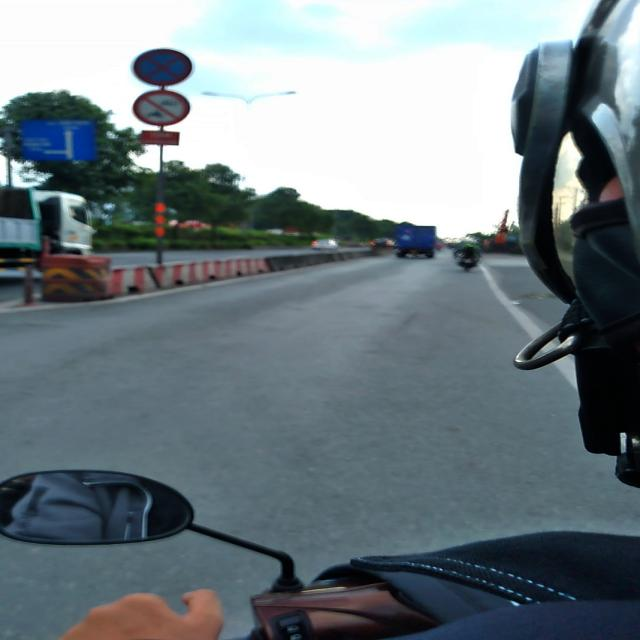Cam dung va do: (133, 49, 193, 85)
